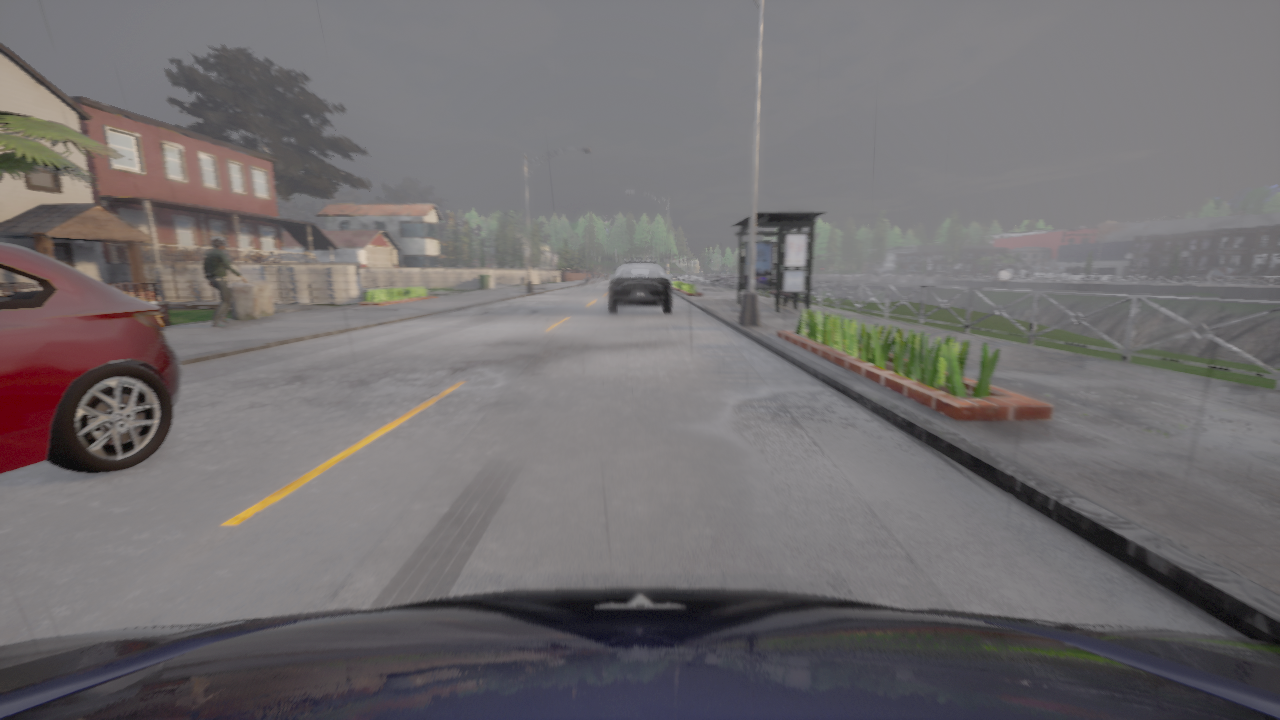cyclist: (0, 588, 1279, 719), (608, 260, 671, 312)
pedestrian: (201, 238, 247, 327)
